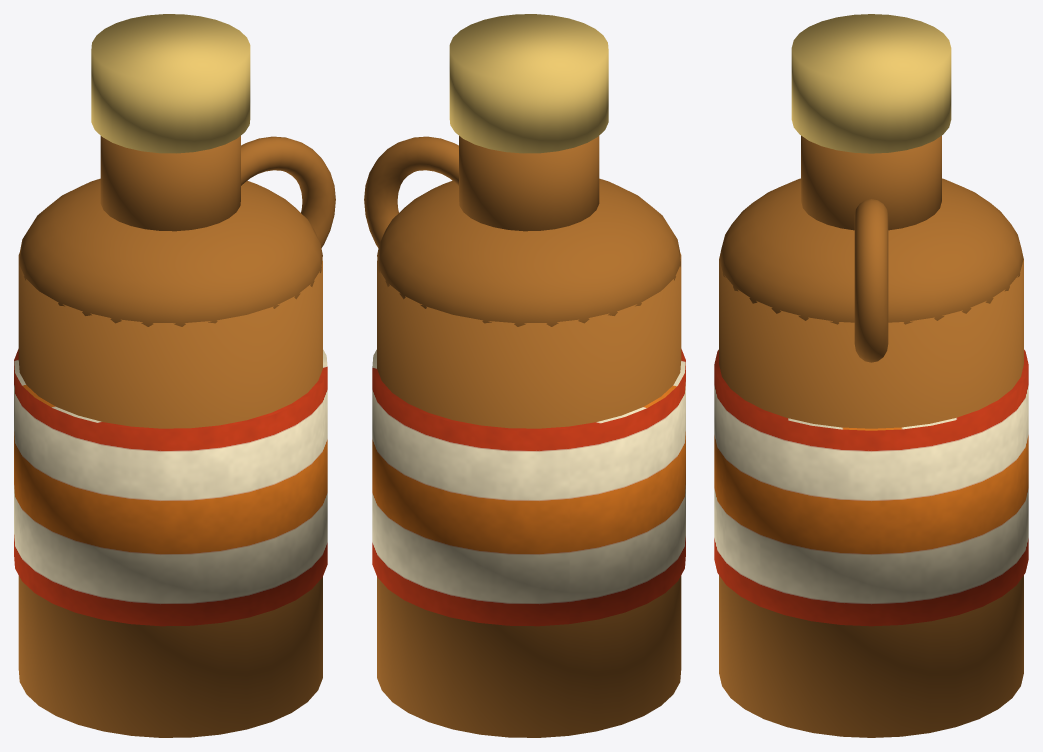
Rendered from syrup_bottle.glb.
3 renders of one model, left to right at view 1: azimuth 30°, elevation 25°; view 2: azimuth 150°, elevation 25°; view 3: azimuth 270°, elevation 25°, orthographic.
Visible parts, largest first — view 1: JoinedAsset; view 2: JoinedAsset; view 3: JoinedAsset.
Part boxes in pixels (<box>): JoinedAsset: <box>14,14,335,737</box>; JoinedAsset: <box>364,14,685,737</box>; JoinedAsset: <box>714,14,1028,737</box>.
Bounding box in the file's own units: 1.47 × 2.95 × 1.34.
3 materials, 1 textured.
